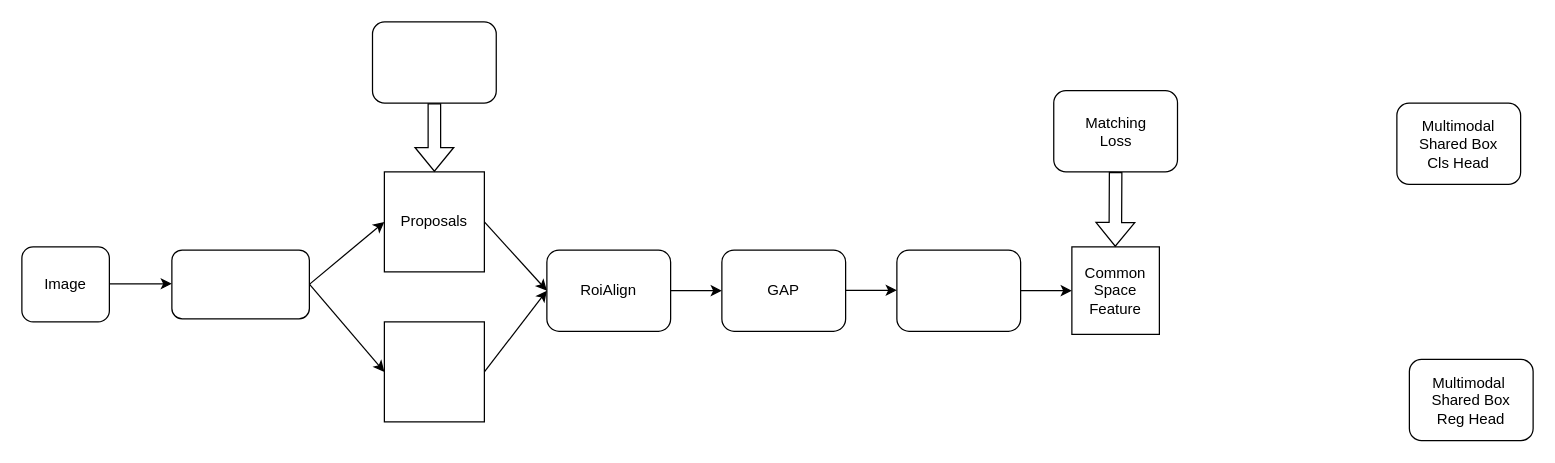
This 1555x463 diagram has some shape labels left out. The shapes that lost their labels are listed below. From the top down, each one's centre as x and y in pixels, then its label:
At (433,62): "GFL Cls&Reg Loss".
At (240,284): "ATSS RPN".
At (958,290): "Multimodal Convert Matrix".
At (433,371): "Conv Feature Maps".
